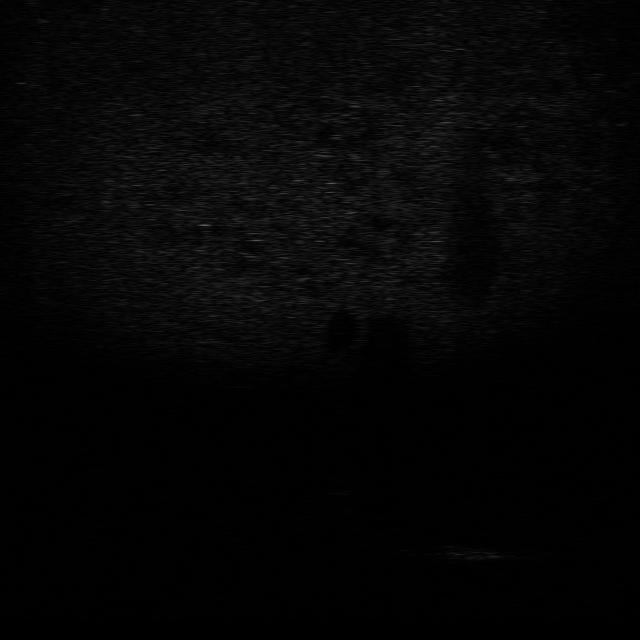ball: (318, 476, 362, 497)
metal bucket: (434, 541, 515, 564)
tyre: (369, 510, 426, 558)
